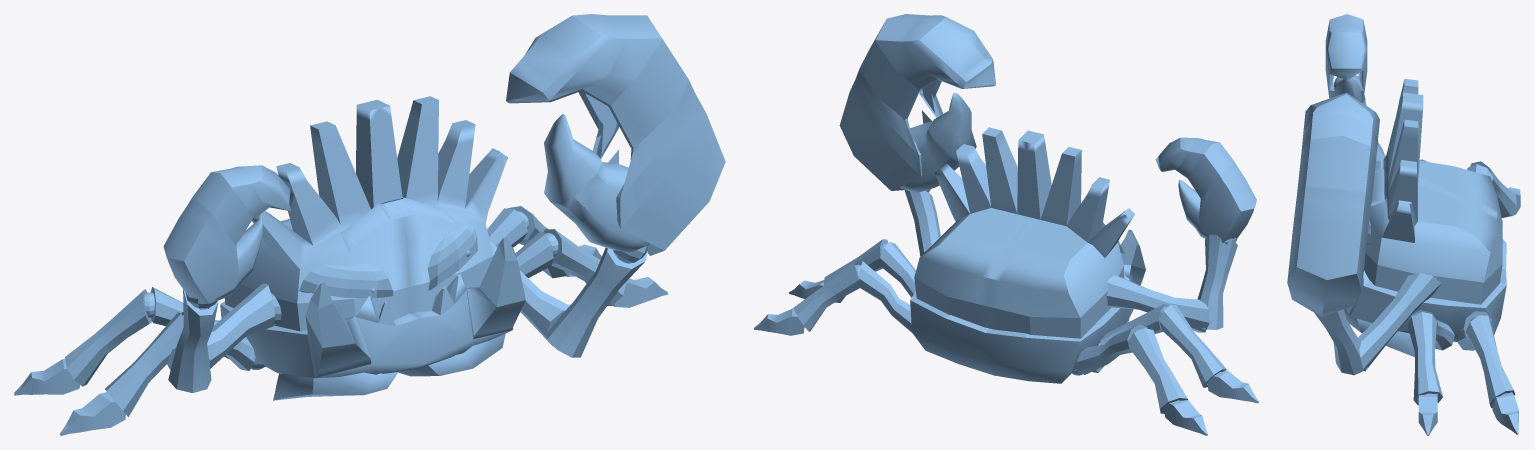
File: kingler.glb
3 renders of one model, left to right at view 1: azimuth 30°, elevation 25°; view 2: azimuth 150°, elevation 25°; view 3: azimuth 270°, elevation 25°, orthographic. The views are drawn at different scales.
Parts seen in each view (by area): view 1: Node; view 2: Node; view 3: Node.
Part boxes in pixels (left/top/right/bottom): Node: left=14, top=14, right=725, bottom=435; Node: left=754, top=14, right=1258, bottom=435; Node: left=1287, top=14, right=1520, bottom=435.
Size of the model in its own units: 23.73 by 13.41 by 9.77.
